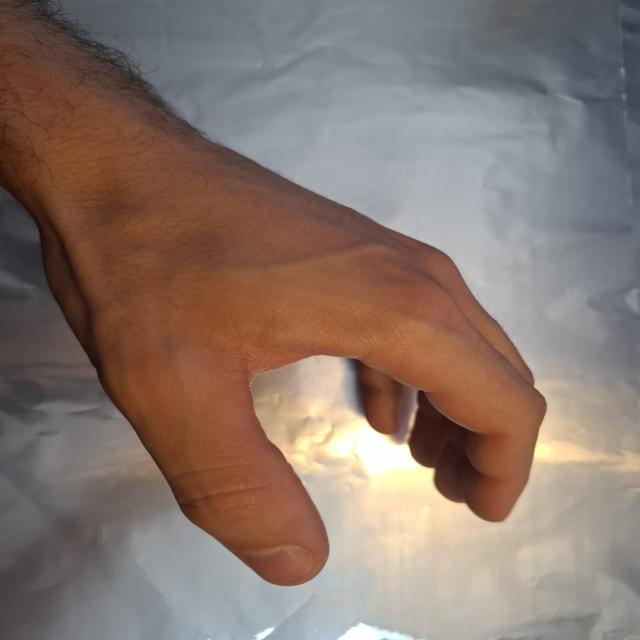glove_off: (34, 131, 549, 587)
